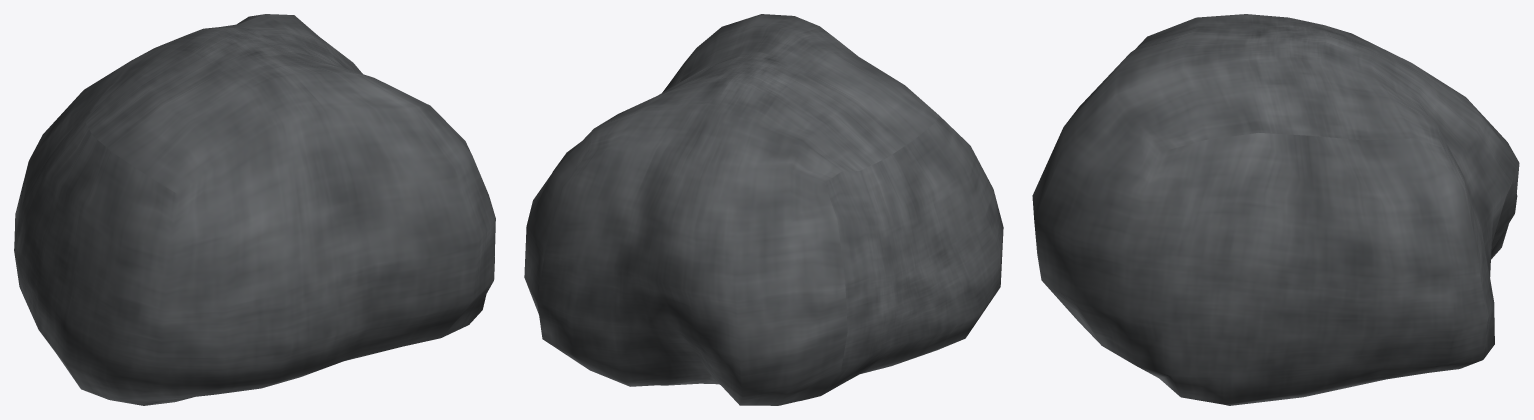
File: Kei 3.fbx
The picture shows the model from 3 angles, left to right: view 1: azimuth 30°, elevation 25°; view 2: azimuth 150°, elevation 25°; view 3: azimuth 270°, elevation 25°; orthographic projection. The views are drawn at different scales.
Visible parts, largest first — view 1: pCube4; view 2: pCube4; view 3: pCube4.
Part boxes in pixels (x1,y1,x2,y2): pCube4: (14, 14, 495, 405); pCube4: (524, 14, 1003, 405); pCube4: (1032, 14, 1519, 405).
Bounding box in the file's own units: 8.13 × 5.86 × 8.57.
Materials: 1 (1 with a texture image).
